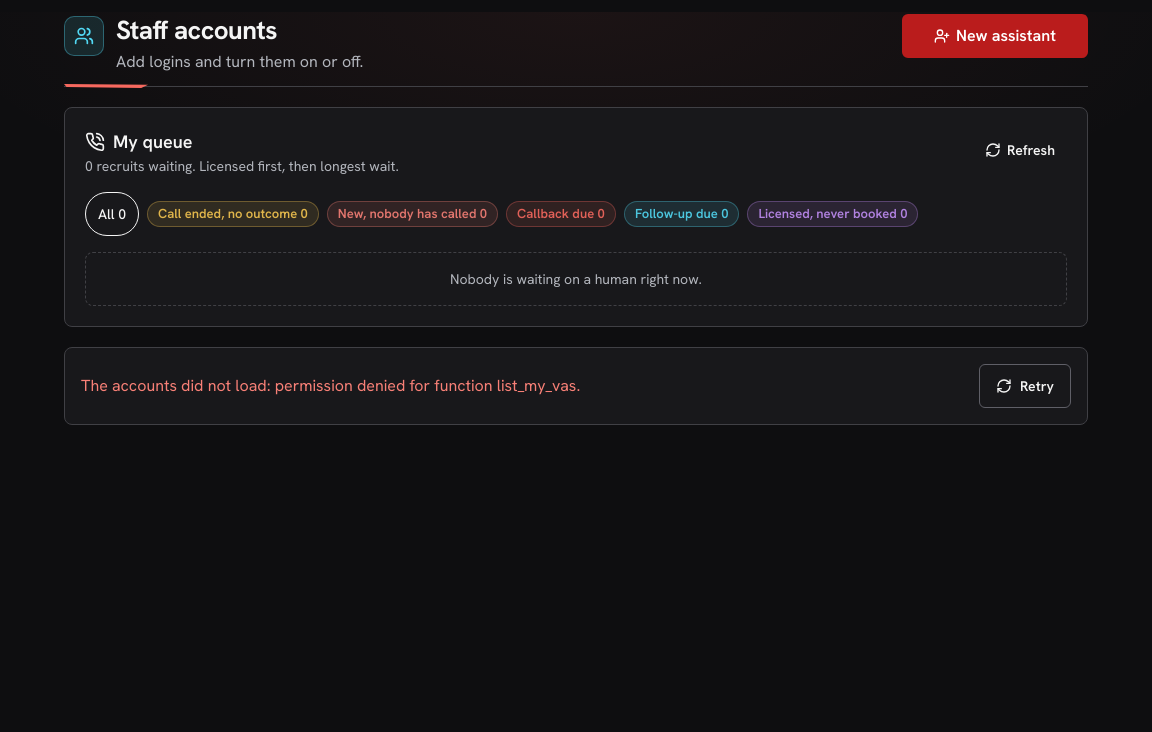
Scenario: Staff accounts › shows no number while the list is loading and none after a failed read; Retry loads it (31)
Later steps or results of the test are not shown.
Expected: the message shows "The accounts did not load: permission denied for function list_my_vas.", 64,347 -> 1088,425
Note: Retry re-reads and the counts appear only then.
Click the button "Retry" at (1025, 386), box 979,364 -> 1071,408
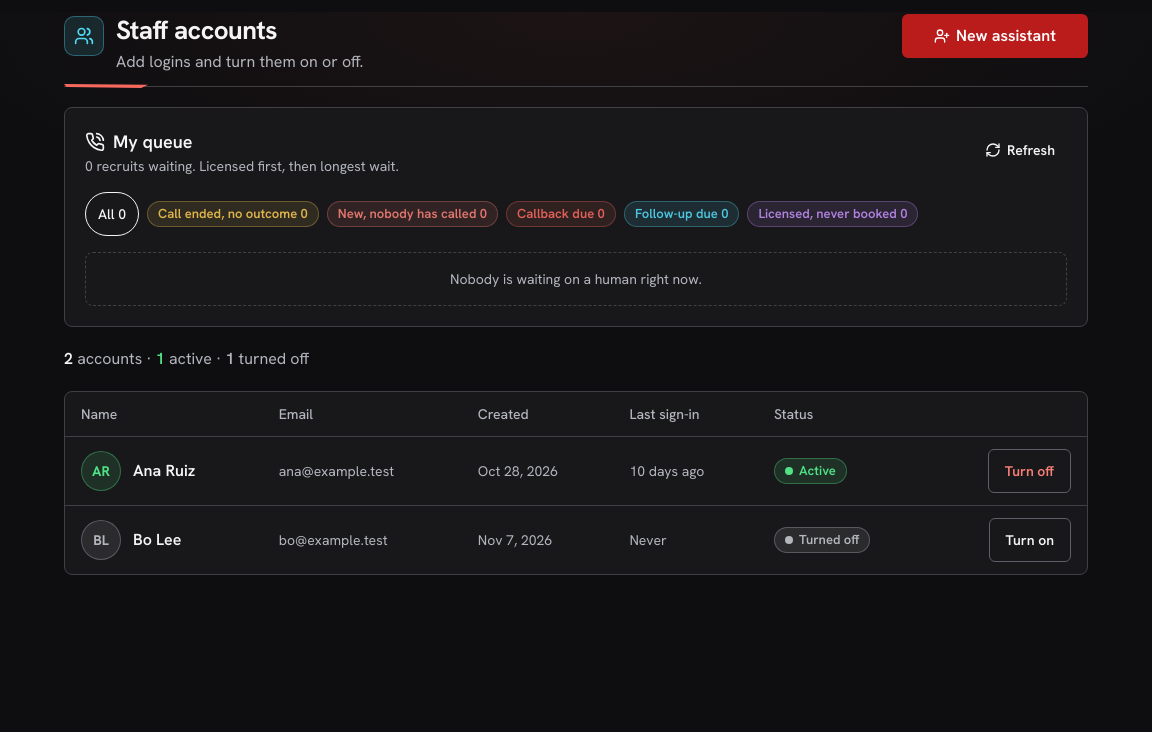
Result: the message "The accounts did not load: permission denied for function list_my_vas. Retry" is gone
Result: the element showing "2 accounts · 1 active · 1 turned off" is shown at 64,348 -> 309,369
